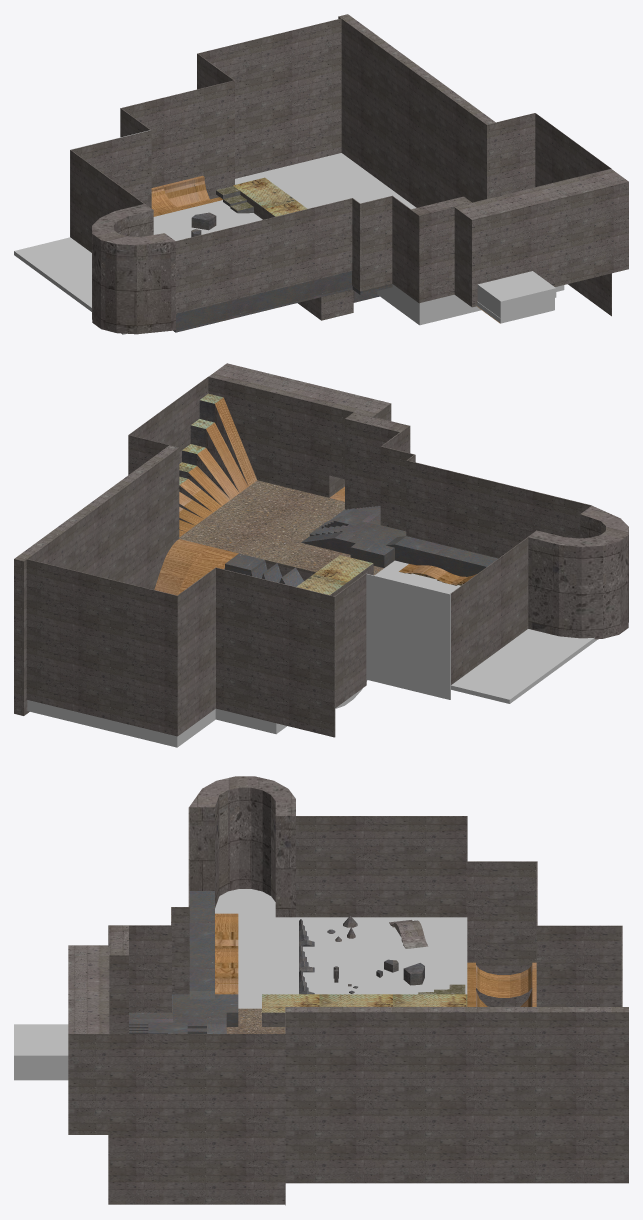
File: testmapv1scaled.obj
3 views of the same model, one above another, from view 1: azimuth 30°, elevation 25°; view 2: azimuth 150°, elevation 25°; view 3: azimuth 270°, elevation 25° (orthographic). The views are drawn at different scales.
Parts seen in each view (by area): view 1: entity0_brush183, entity0_brush196, entity0_brush190, entity0_brush186, entity0_brush194, entity0_brush73, entity0_brush185, entity0_brush161, entity0_brush198, entity0_brush197, entity0_brush91, entity0_brush191 (+19 smaller); view 2: entity0_brush196, entity0_brush194, entity0_brush183, entity0_brush186, entity0_brush190, entity0_brush193, entity0_brush48, entity0_brush191, entity0_brush73, entity0_brush195, entity0_brush197, entity0_brush192 (+25 smaller); view 3: entity0_brush183, entity0_brush185, entity0_brush191, entity0_brush73, entity0_brush192, entity0_brush195, entity0_brush186, entity0_brush187, entity0_brush18, entity0_brush161, entity0_brush91, entity0_brush154 (+12 smaller).
Boxes of the visible parts, box(x1,y1,x2,y2) form: entity0_brush183: box(338, 14, 496, 207); entity0_brush196: box(198, 18, 341, 178); entity0_brush190: box(176, 198, 352, 313); entity0_brush186: box(496, 169, 628, 286); entity0_brush194: box(120, 80, 234, 199); entity0_brush73: box(14, 200, 262, 334); entity0_brush185: box(535, 113, 611, 316); entity0_brush161: box(137, 233, 175, 334); entity0_brush198: box(454, 201, 495, 307); entity0_brush197: box(411, 196, 471, 302); entity0_brush91: box(173, 271, 352, 332); entity0_brush191: box(70, 150, 144, 252); entity0_brush196: box(26, 559, 176, 736); entity0_brush194: box(215, 567, 335, 737); entity0_brush183: box(14, 445, 179, 715); entity0_brush186: box(208, 363, 347, 497); entity0_brush190: box(407, 460, 591, 558); entity0_brush193: box(366, 573, 450, 699); entity0_brush48: box(179, 480, 344, 569); entity0_brush191: box(450, 537, 528, 684); entity0_brush73: box(374, 560, 597, 703); entity0_brush195: box(177, 568, 215, 736); entity0_brush197: box(345, 412, 408, 509); entity0_brush192: box(335, 573, 366, 707); entity0_brush183: box(285, 1007, 628, 1183); entity0_brush185: box(108, 1034, 285, 1204); entity0_brush191: box(296, 816, 467, 917); entity0_brush73: box(215, 889, 467, 1008); entity0_brush192: box(467, 861, 536, 974); entity0_brush195: box(537, 925, 622, 1006); entity0_brush186: box(68, 968, 109, 1134); entity0_brush187: box(108, 925, 171, 1012); entity0_brush18: box(262, 994, 467, 1026); entity0_brush161: box(189, 788, 219, 907); entity0_brush91: box(189, 891, 214, 990); entity0_brush154: box(275, 799, 295, 917).
Bounding box in the file's own units: 275 × 85.38 × 278.
